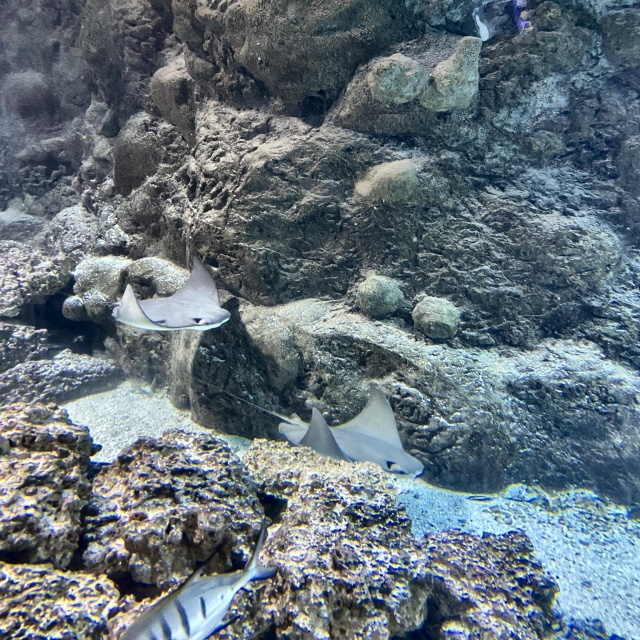fish: (118, 516, 277, 639)
stingray: (278, 382, 425, 481), (112, 256, 230, 331)
